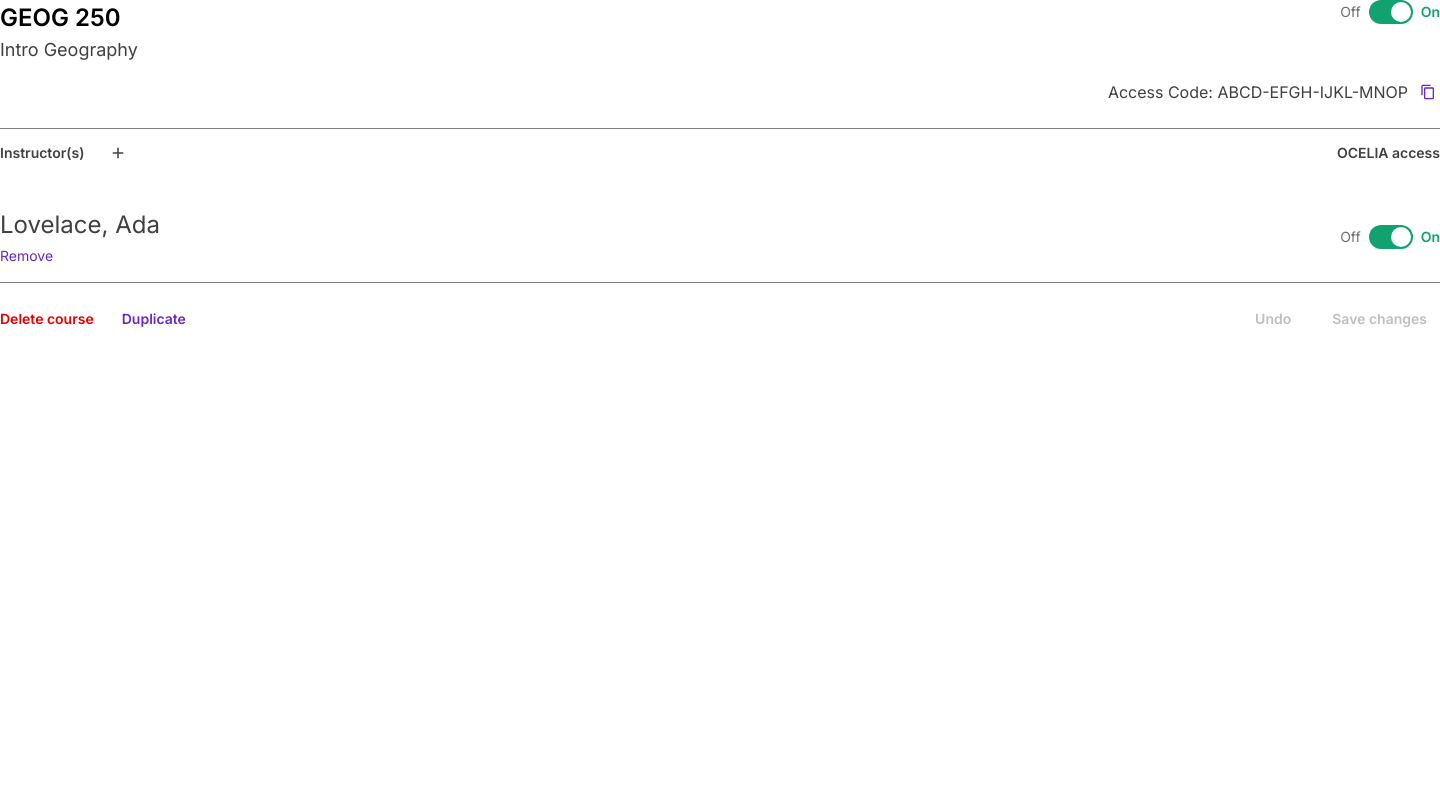
Scenario: CourseDetail (staged editing) › keeps Assign disabled until a selection is applied, and Cancel closes without staging
The image size is (1440, 810).
Click the button named "Add instructor" at (118, 153), box [104,139,132,167]
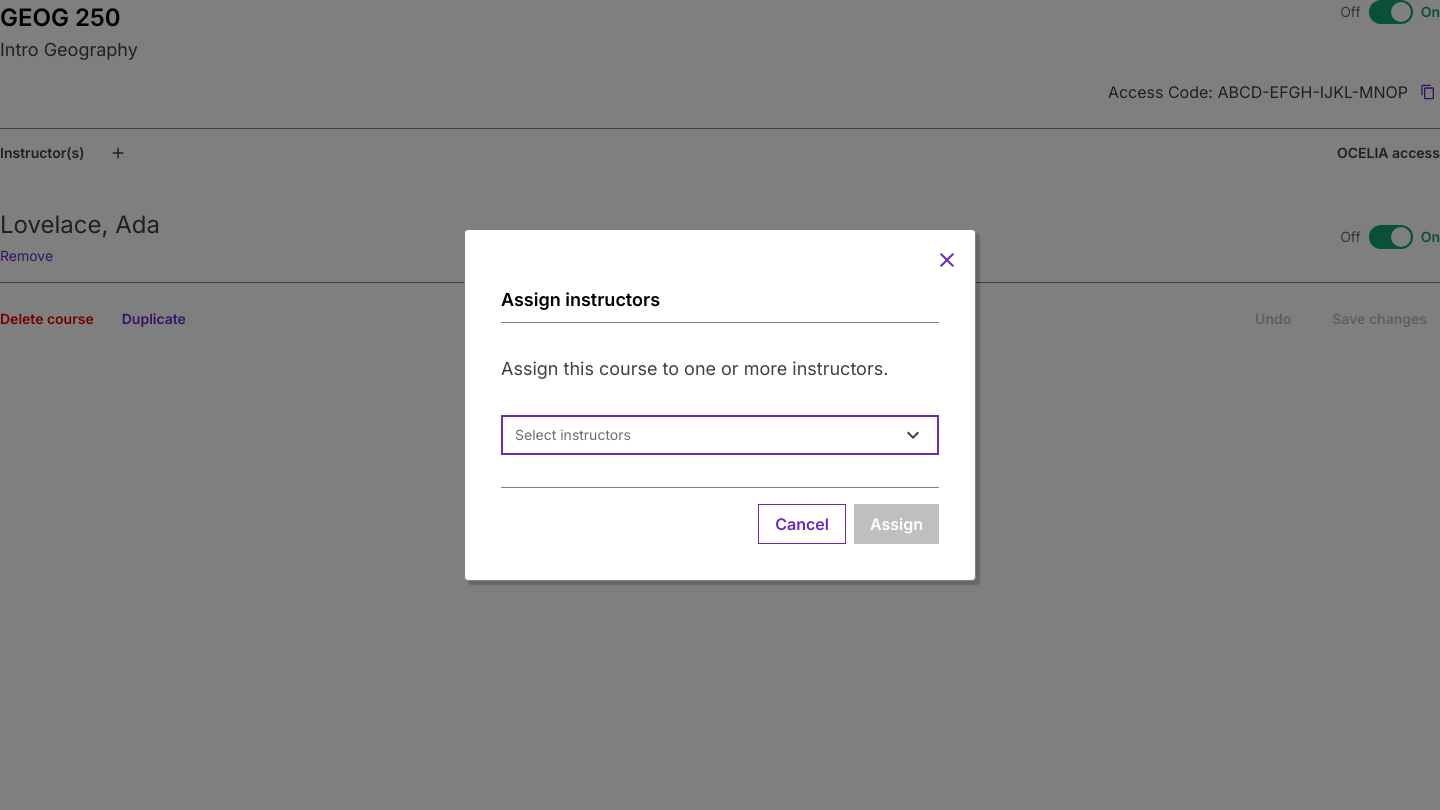
Result: the button "Assign" is disabled at [854,504,939,544]
Click the button "Cancel" at (802, 524), box [758,504,846,544]
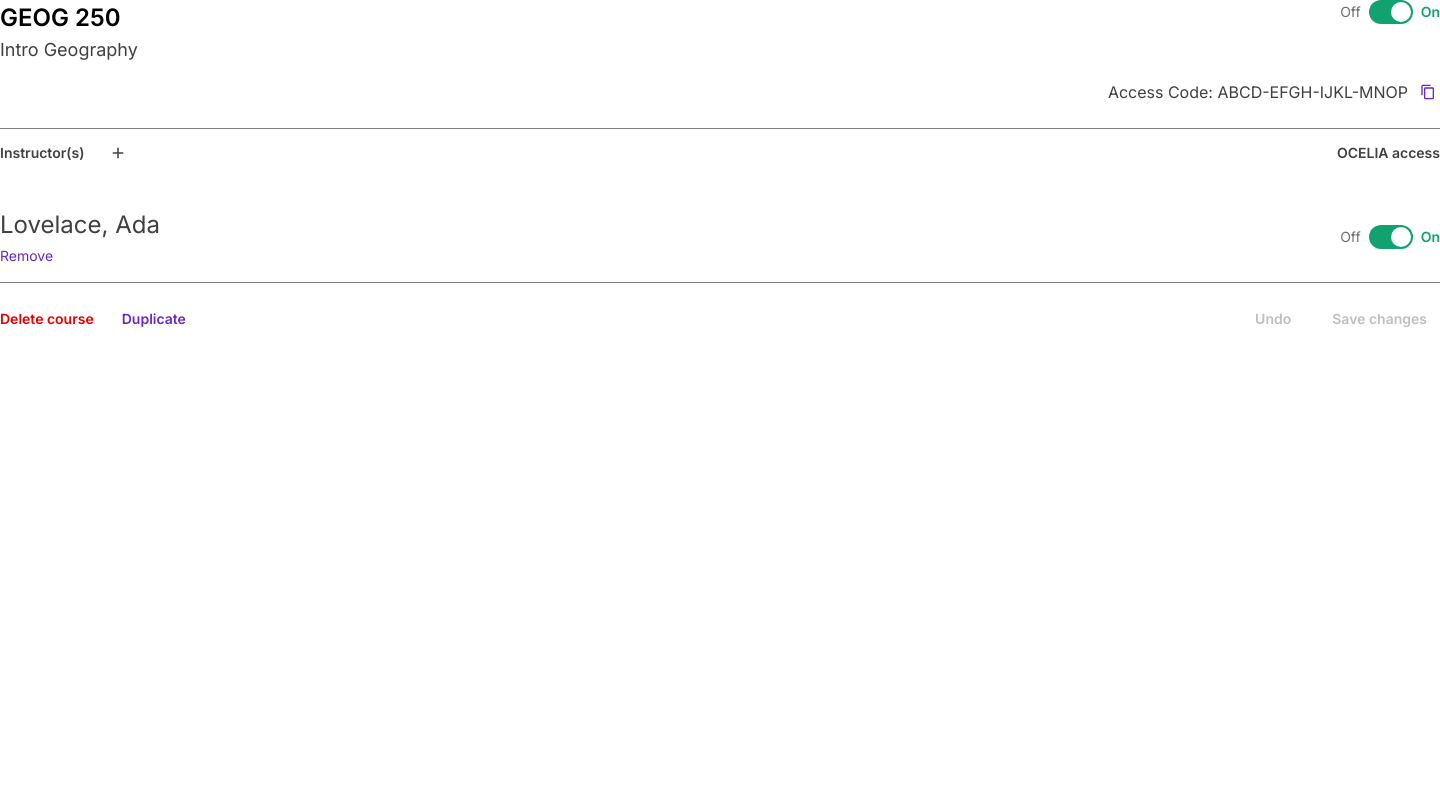
Expected: the text "Turing, Alan" is not shown
Result: the dialog is gone
# Re-open, pick + apply → Assign activates.
Click the button named "Add instructor" at (118, 153), box [104,139,132,167]
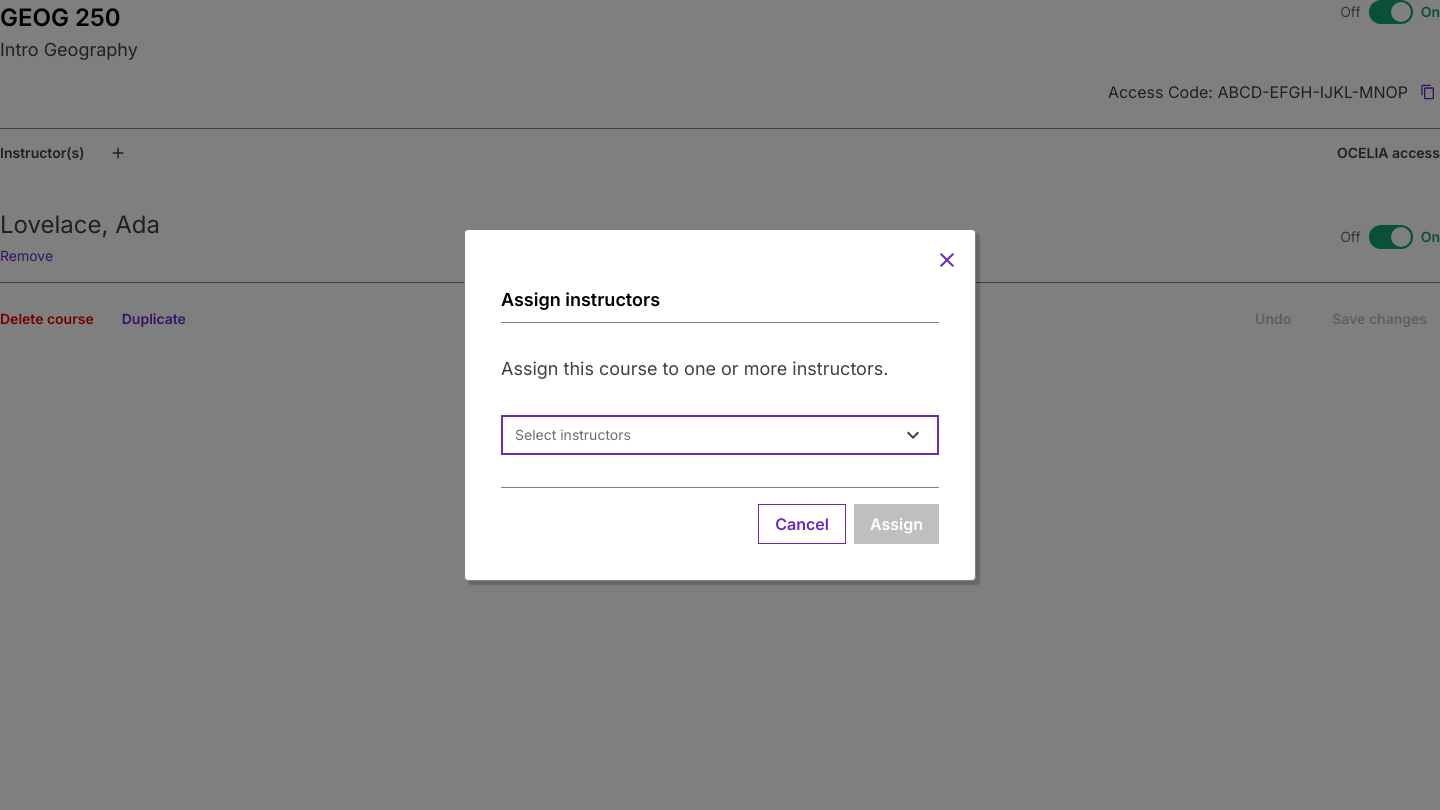
Click the button with aria-label "Instructors to assign" at (573, 434), box [501,415,939,455]
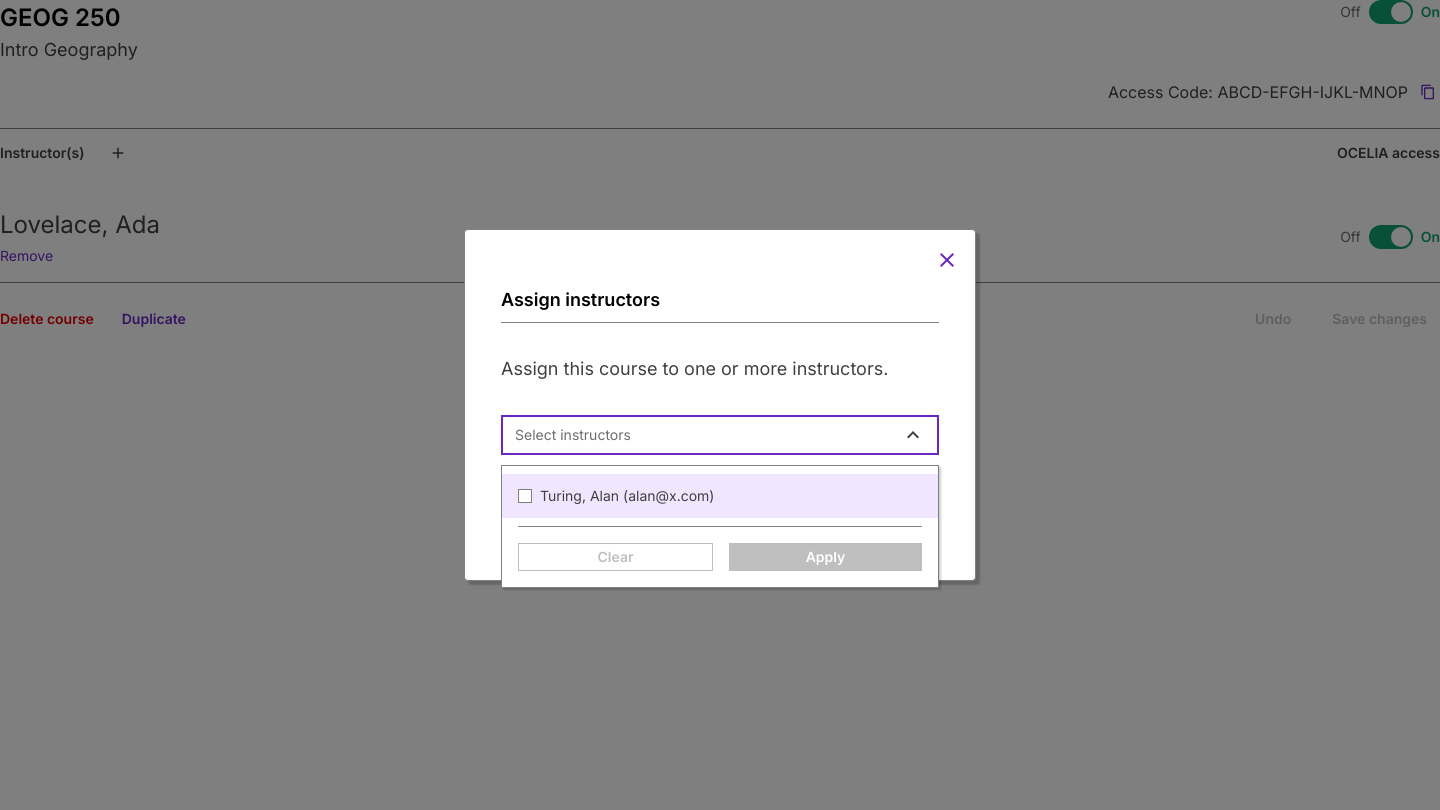
Click the checkbox labelled "Turing, Alan (alan@x.com)" at (627, 496), box [502,474,938,518]
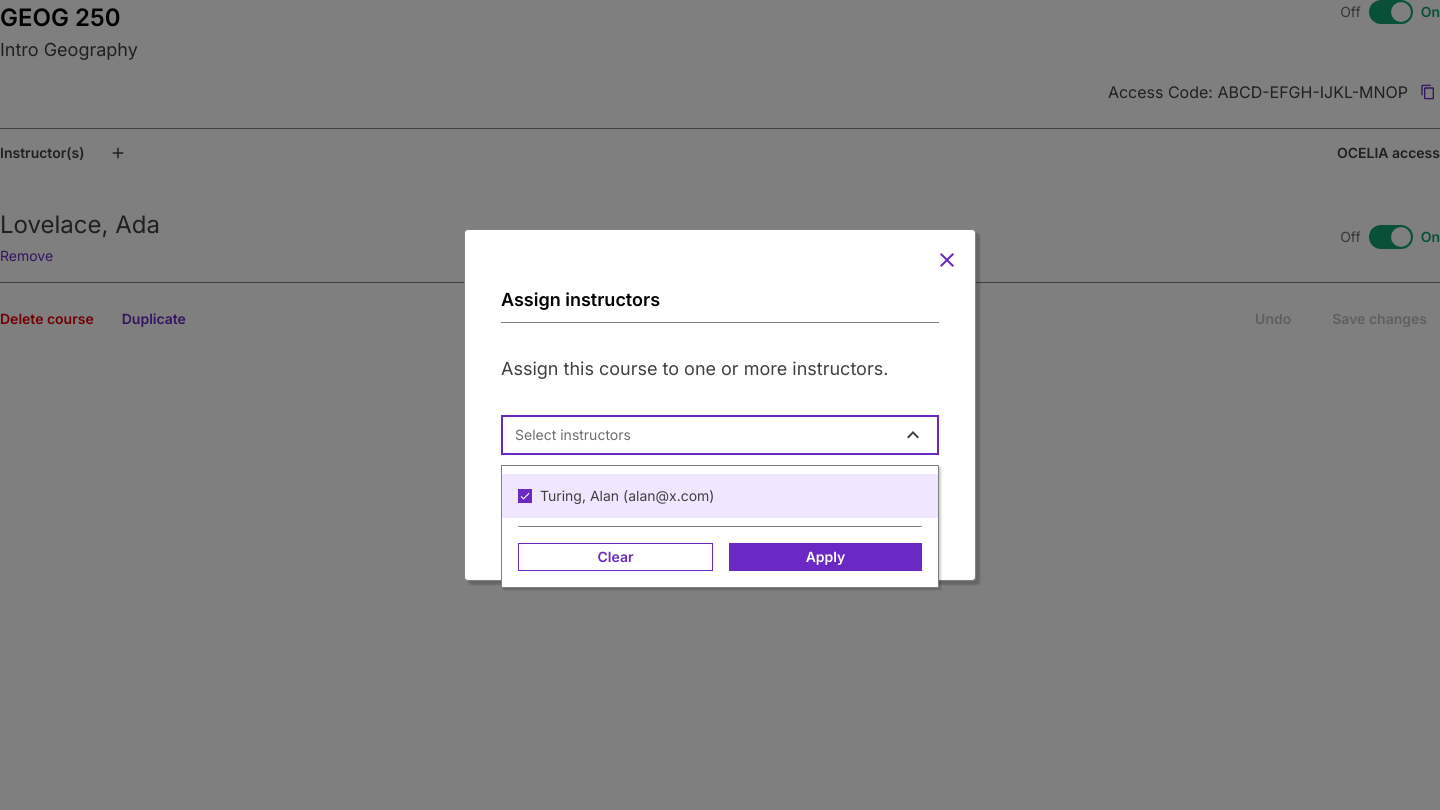
Click the button "Apply" at (826, 557), box [729,543,922,571]
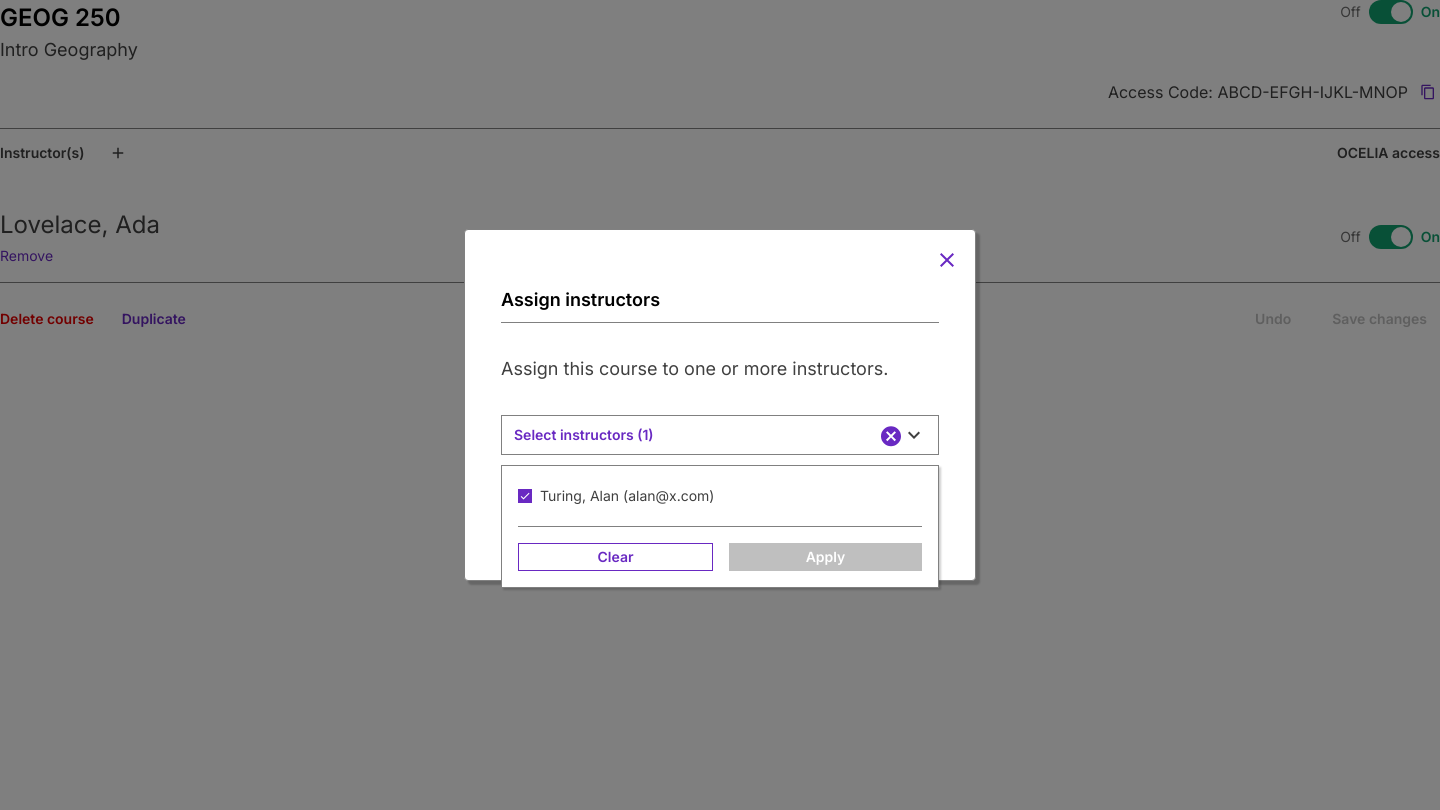
Result: the button "Assign" is enabled at [854,504,939,544]
